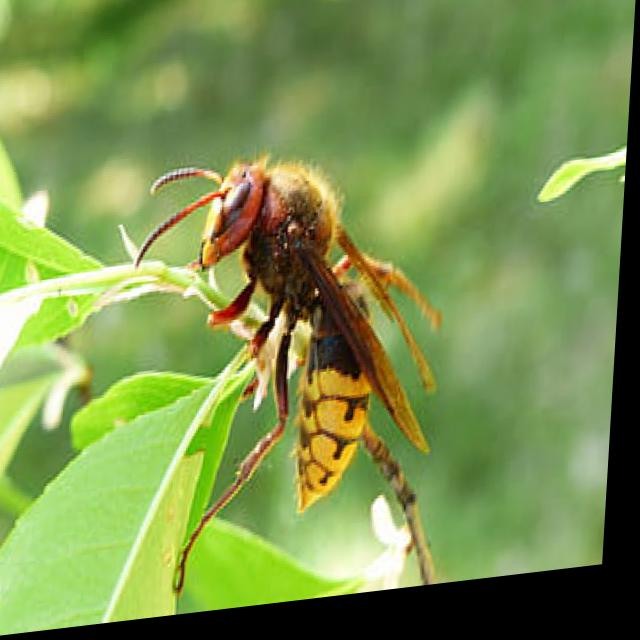Vespa Crabro: (110, 106, 483, 620)
